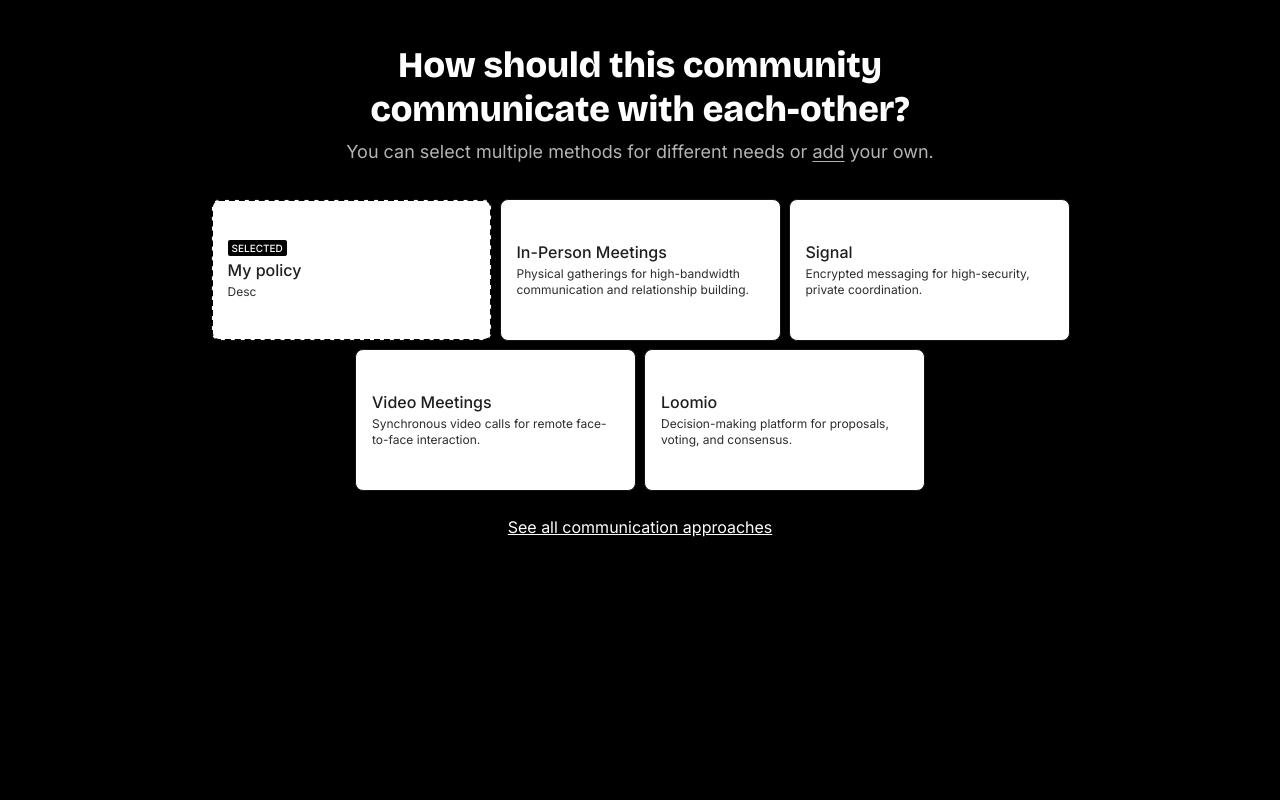
Scenario: Create flow communication-methods page › with a finalized custom policy, inline add link still opens the custom wizard
What coordinates should you click on to do the following:
click the button "add"
I would click on:
 (829, 152)
Its box is [812,140,845,163].
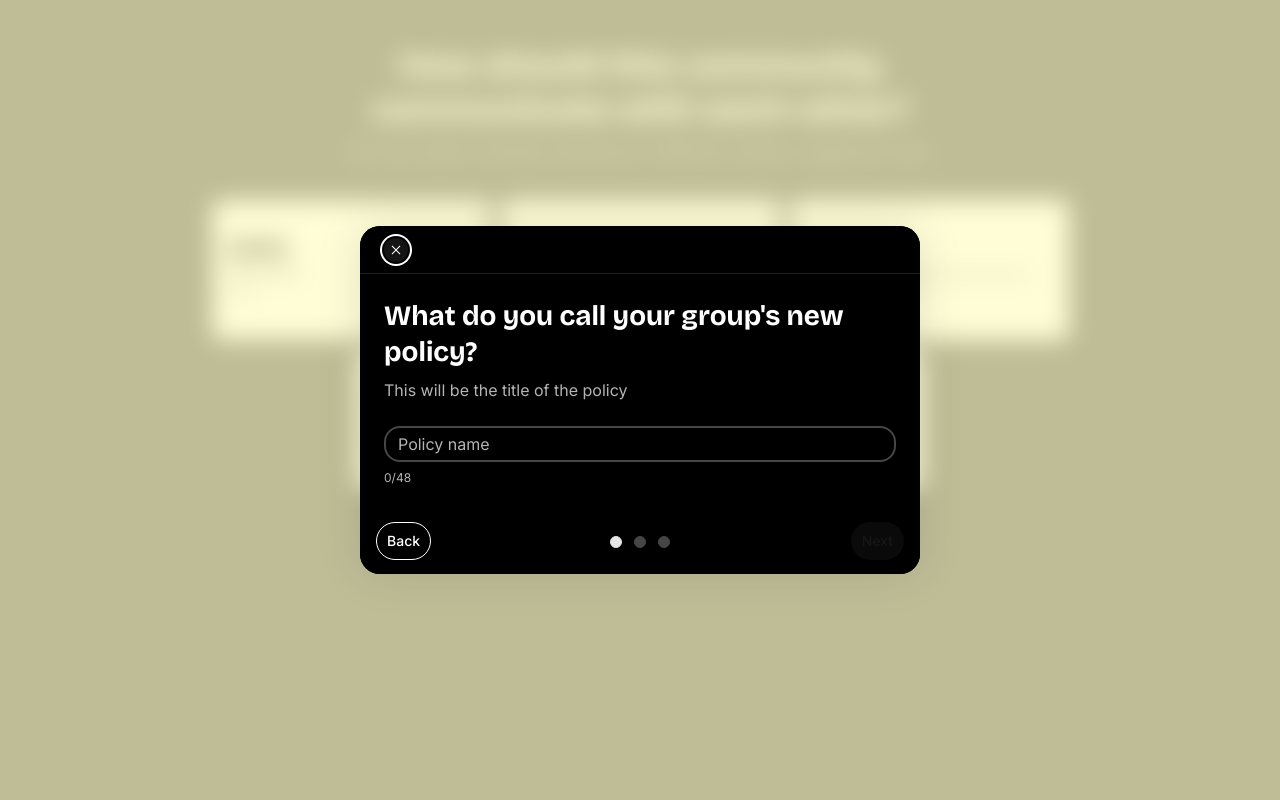
Check: the heading "What do you call your group's new policy?" is shown, box [384,298,896,370]
